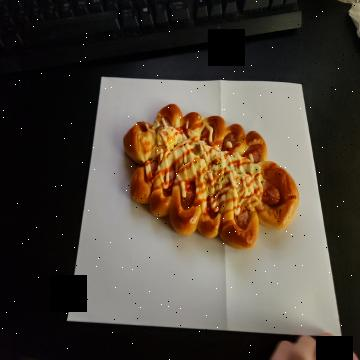pizza_bread: (124, 105, 302, 253)
